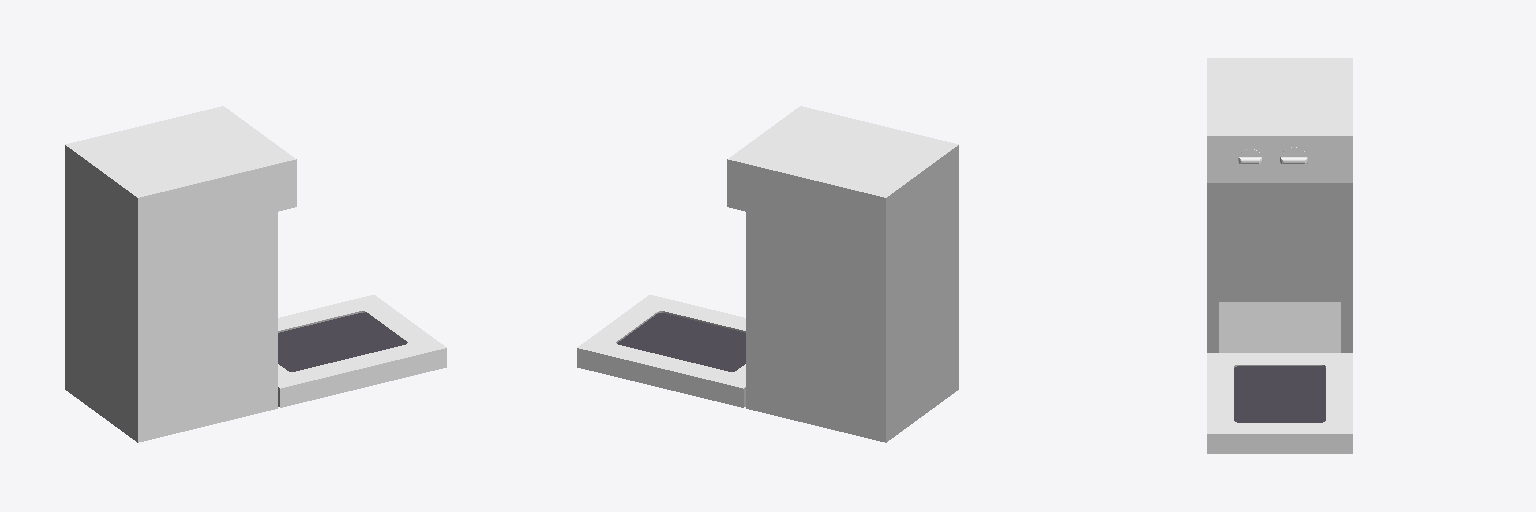
File: microwave.obj
3 renders of one model, left to right at view 1: azimuth 30°, elevation 25°; view 2: azimuth 150°, elevation 25°; view 3: azimuth 270°, elevation 25°, orthographic.
Parts seen in each view (by area): view 1: op_microwave_open, op_microwave_open.001; view 2: op_microwave_open, op_microwave_open.001; view 3: op_microwave_open, op_microwave_open.001.
Part boxes in pixels (bbox=[...]): op_microwave_open: bbox=[65, 106, 296, 442]; op_microwave_open.001: bbox=[278, 295, 446, 407]; op_microwave_open: bbox=[727, 106, 958, 442]; op_microwave_open.001: bbox=[577, 295, 745, 407]; op_microwave_open: bbox=[1207, 58, 1352, 352]; op_microwave_open.001: bbox=[1207, 353, 1352, 453].
Bounding box in the file's own units: 0.575 × 0.435 × 0.235.